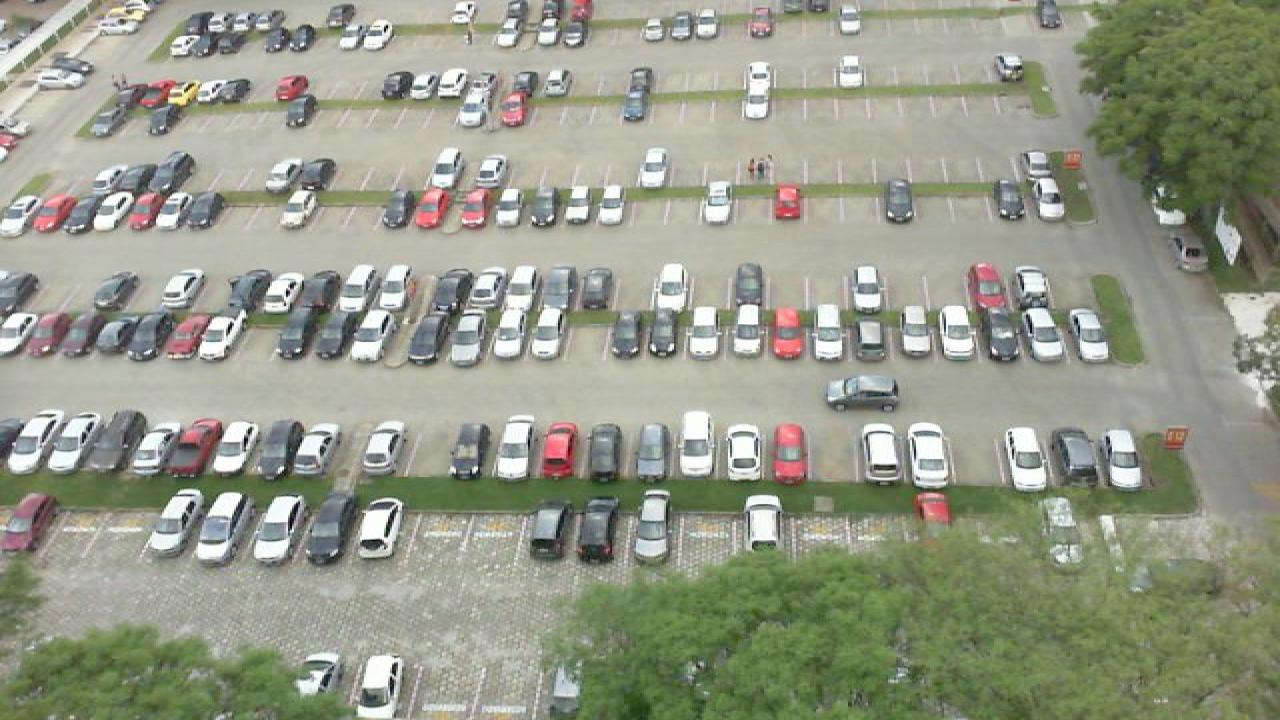Car: (144, 488, 214, 562), (200, 488, 258, 562), (250, 490, 308, 564), (304, 491, 356, 567), (1000, 424, 1056, 491), (6, 411, 62, 477), (94, 407, 148, 474), (0, 490, 56, 554), (354, 652, 406, 720), (904, 422, 956, 489), (1050, 425, 1102, 492), (164, 418, 222, 478), (856, 421, 906, 487), (574, 495, 622, 563), (492, 414, 540, 482), (1096, 426, 1146, 491), (630, 488, 672, 564), (50, 411, 100, 474), (674, 408, 716, 483), (206, 421, 262, 477), (358, 497, 406, 562), (824, 373, 902, 413), (252, 418, 302, 480), (528, 497, 574, 562), (296, 418, 344, 480), (1062, 304, 1112, 363), (360, 419, 410, 477), (404, 308, 454, 366), (310, 310, 360, 366), (1018, 306, 1068, 362), (768, 422, 812, 485), (742, 493, 784, 558), (722, 421, 764, 486), (978, 302, 1022, 364), (196, 308, 246, 360), (936, 304, 980, 363), (450, 420, 492, 481), (584, 421, 624, 485), (294, 649, 344, 700), (634, 420, 674, 483), (272, 310, 318, 364), (350, 310, 396, 364), (540, 420, 580, 482), (526, 306, 570, 362), (806, 305, 850, 360), (446, 312, 490, 366), (486, 307, 530, 361), (136, 420, 176, 478), (160, 266, 208, 314), (162, 314, 212, 360), (892, 304, 932, 361), (28, 310, 72, 360), (768, 304, 806, 361), (686, 305, 726, 359), (966, 261, 1008, 312), (60, 310, 102, 360), (130, 310, 172, 360), (652, 260, 692, 312), (90, 5, 152, 38), (844, 263, 884, 314), (152, 150, 196, 196), (730, 304, 766, 359), (264, 269, 308, 314), (648, 308, 686, 360), (852, 313, 892, 362), (728, 260, 768, 309), (610, 309, 648, 360), (224, 268, 268, 312), (432, 268, 476, 312), (1168, 230, 1212, 274), (94, 312, 136, 358), (1010, 264, 1052, 310), (988, 177, 1028, 225), (94, 271, 140, 312), (36, 55, 88, 91), (342, 262, 380, 311), (538, 263, 576, 312), (30, 192, 74, 234), (880, 176, 918, 224), (380, 262, 416, 312), (278, 187, 318, 232), (0, 269, 40, 313), (92, 190, 132, 234), (410, 185, 450, 229), (112, 156, 156, 196), (0, 312, 38, 358), (504, 266, 542, 312), (576, 266, 614, 312), (0, 190, 36, 238), (428, 145, 466, 190), (308, 270, 350, 310), (64, 192, 104, 234), (264, 155, 304, 196), (458, 184, 494, 229), (298, 154, 338, 194), (700, 179, 734, 226), (912, 490, 954, 528), (1032, 178, 1068, 222), (124, 192, 162, 233), (618, 83, 656, 124), (636, 146, 672, 189), (154, 190, 190, 232), (474, 268, 508, 312), (594, 182, 628, 226), (184, 191, 220, 231), (368, 190, 402, 232), (772, 181, 806, 223), (562, 184, 594, 228), (472, 152, 508, 191), (146, 99, 182, 137), (740, 82, 776, 120), (94, 103, 130, 140), (528, 184, 558, 228), (282, 91, 316, 128), (496, 91, 530, 127), (494, 189, 526, 227), (456, 90, 488, 128), (114, 76, 152, 108), (834, 53, 866, 90), (488, 18, 524, 50), (380, 71, 418, 101), (276, 73, 310, 105), (364, 18, 396, 52), (522, 16, 556, 48), (470, 66, 502, 99), (410, 71, 444, 102), (440, 68, 472, 100), (540, 66, 572, 98), (622, 63, 654, 95), (556, 17, 588, 49), (992, 52, 1026, 82), (746, 4, 774, 40), (744, 60, 776, 91), (836, 3, 864, 37), (170, 32, 206, 58), (640, 12, 670, 43), (284, 25, 316, 54), (692, 7, 720, 40), (504, 68, 534, 98), (1034, 0, 1064, 30), (206, 28, 238, 56), (256, 26, 286, 55), (220, 76, 252, 103), (334, 26, 366, 53), (328, 3, 360, 30), (150, 76, 178, 106), (170, 79, 200, 107), (666, 10, 692, 41), (232, 28, 260, 55), (450, 0, 478, 27), (196, 78, 224, 104)
